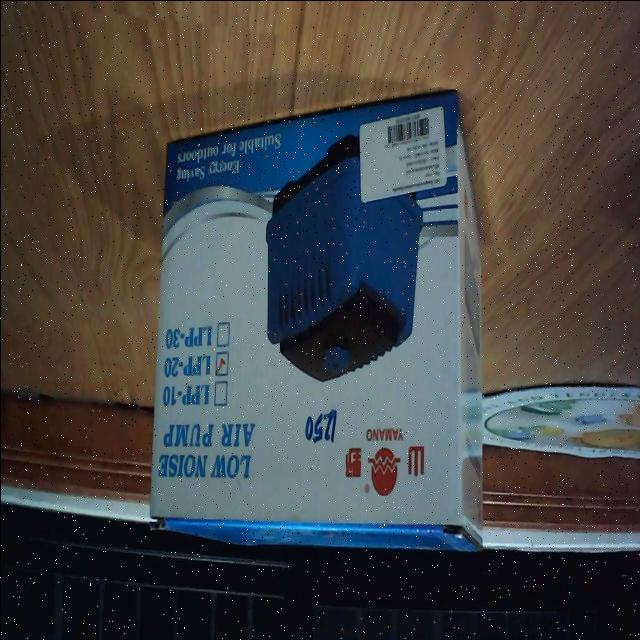YAMANO_LPP_20: (147, 75, 484, 585)
